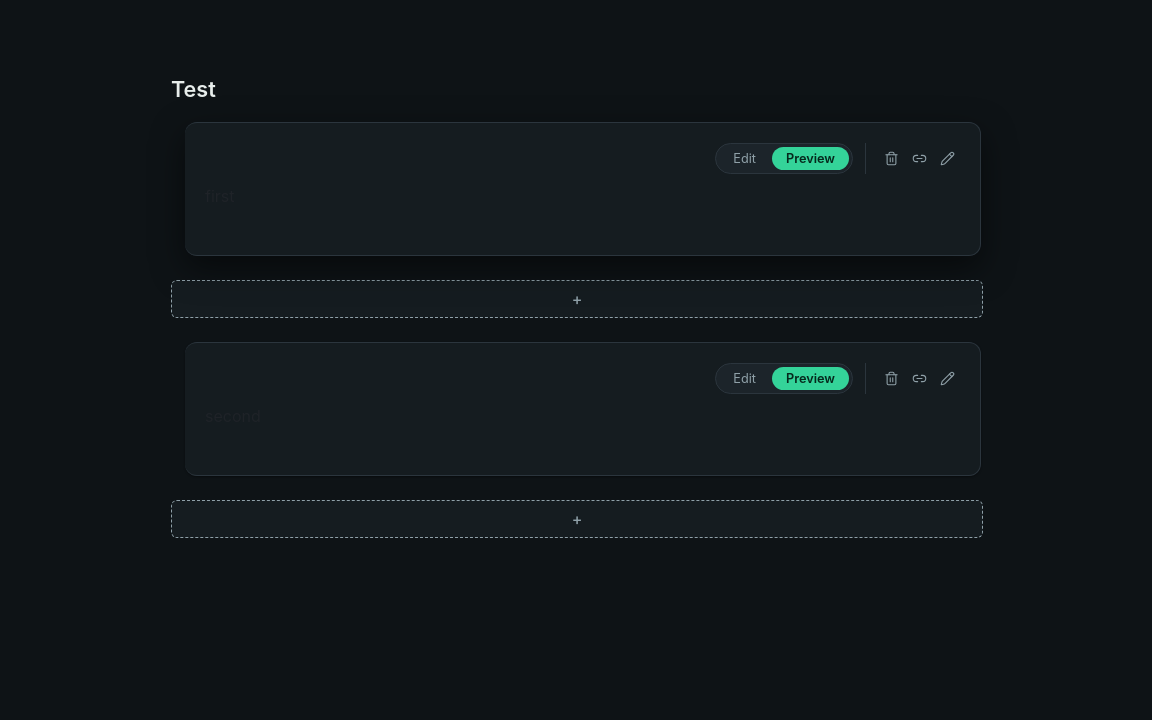
Test case: dialog delete removes the box, cancel keeps it
The image size is (1152, 720).
Click the 1st element titled "Delete this Box from the Notebook": (891, 158) left=884, top=151, right=898, bottom=166
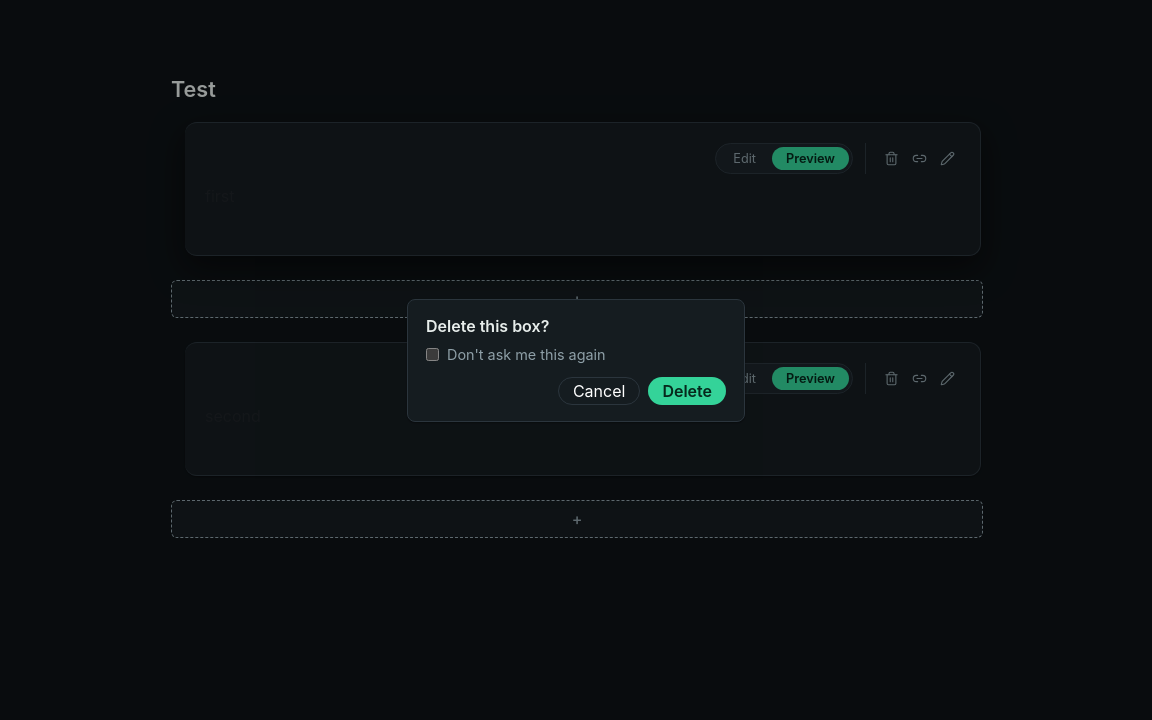
Click the button with class "box-delete-confirm-cancel": (599, 390) left=558, top=376, right=640, bottom=404
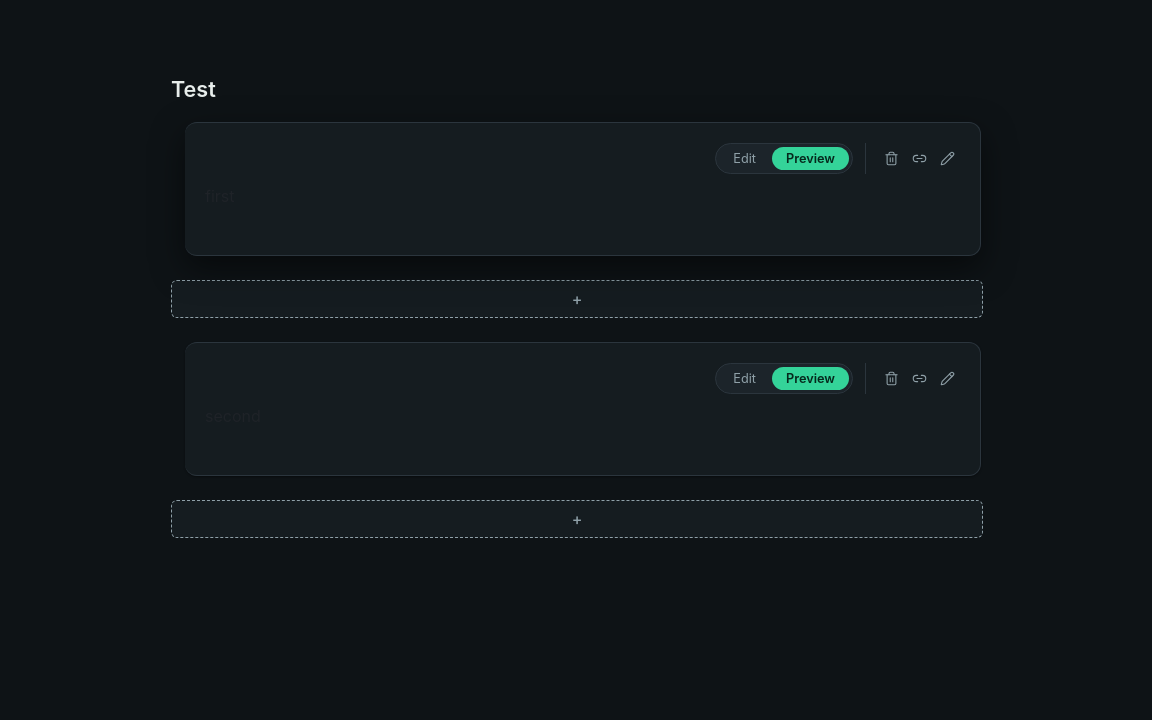
Expected: the element with class "box-delete-confirm" is gone
Click the 1st element titled "Delete this Box from the Notebook": (891, 158) left=884, top=151, right=898, bottom=166
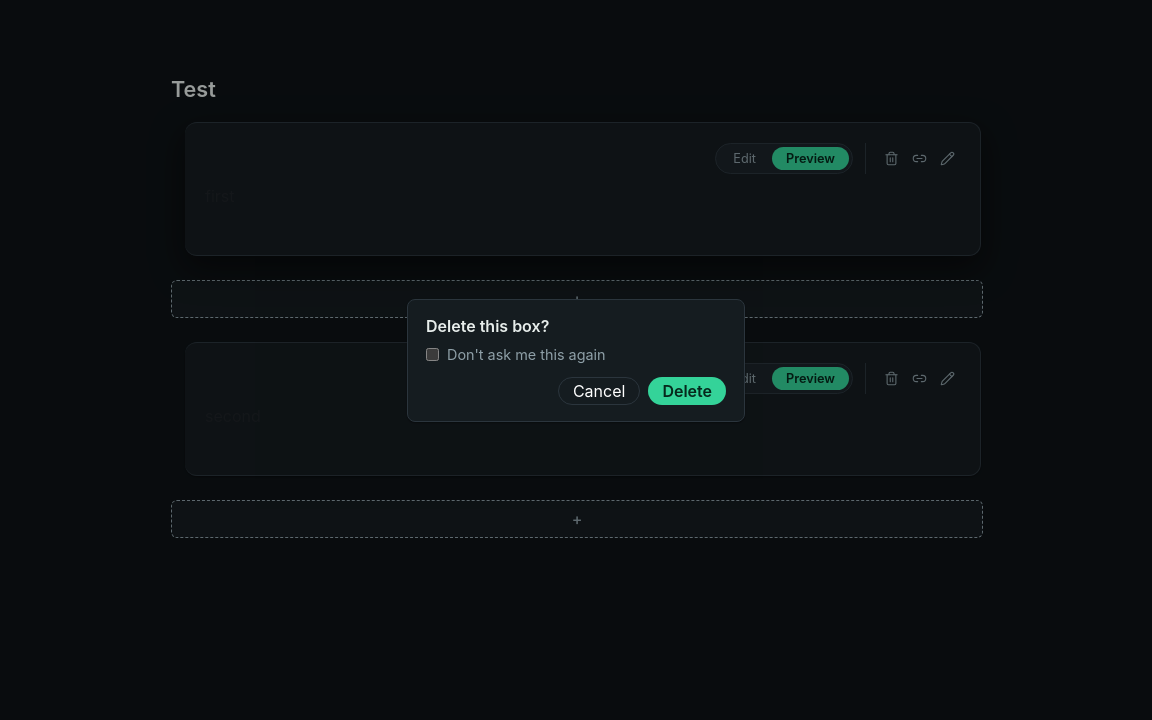
Click the button with class "box-delete-confirm-delete": (687, 390) left=648, top=376, right=726, bottom=404
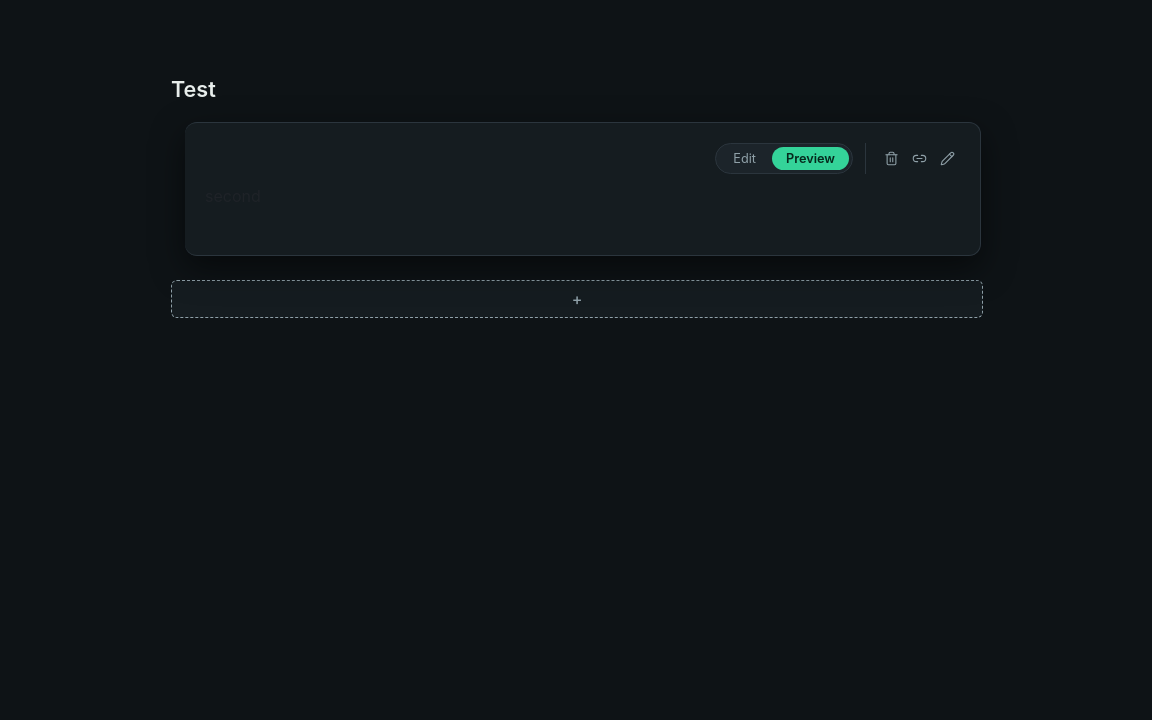
Expected: the element with class "box-delete-confirm" is gone
